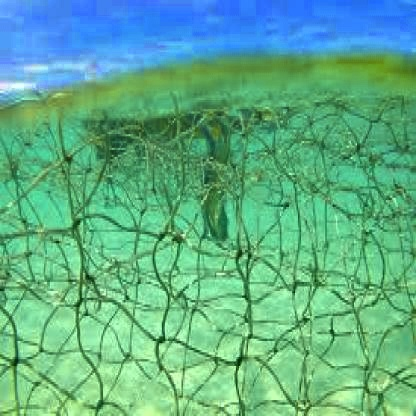net: (6, 111, 416, 416)
